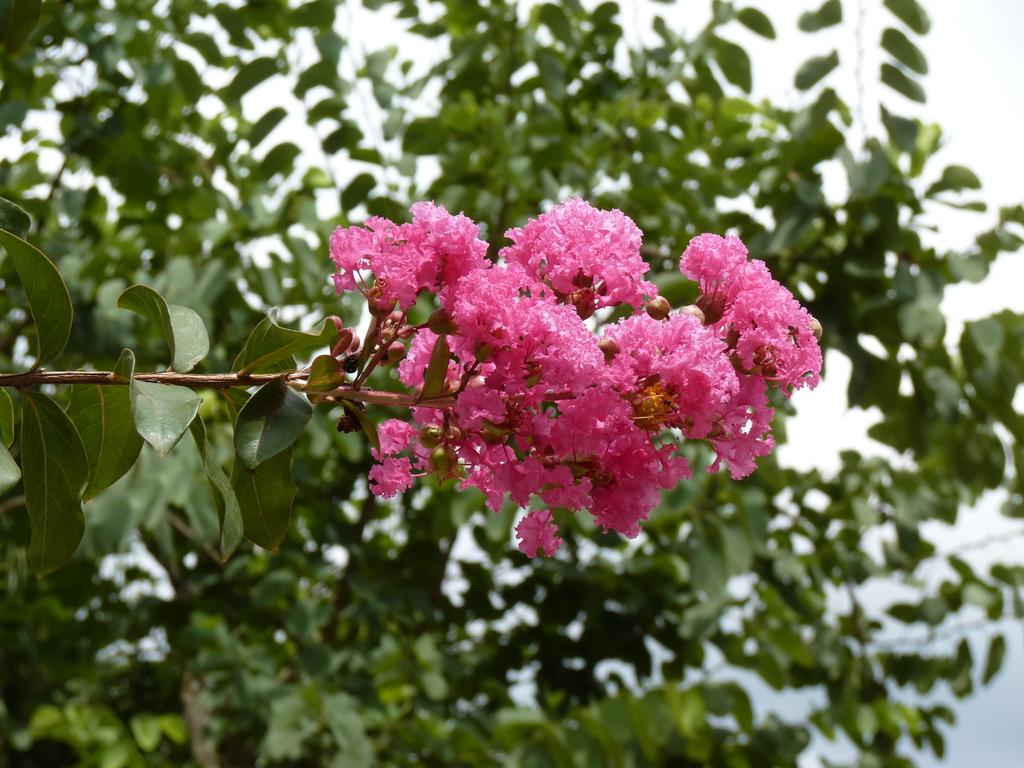Tree: (0, 0, 1023, 764)
